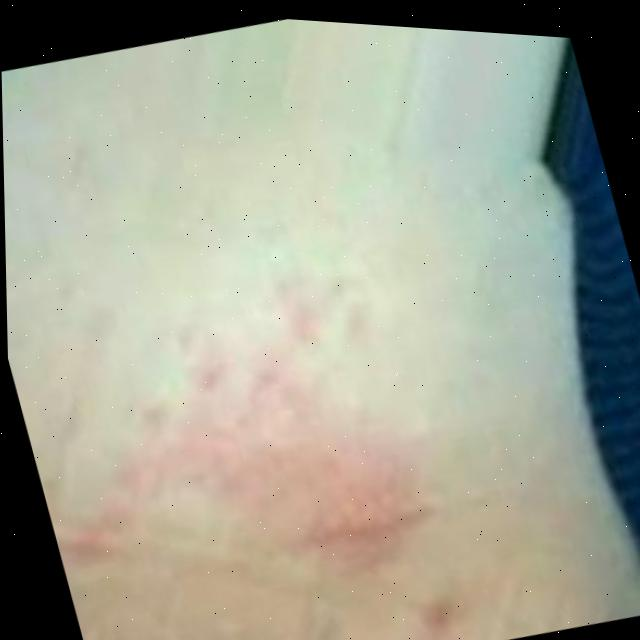Shingles: (106, 289, 434, 611)
